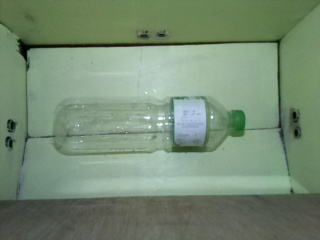bottle: (51, 94, 245, 157)
